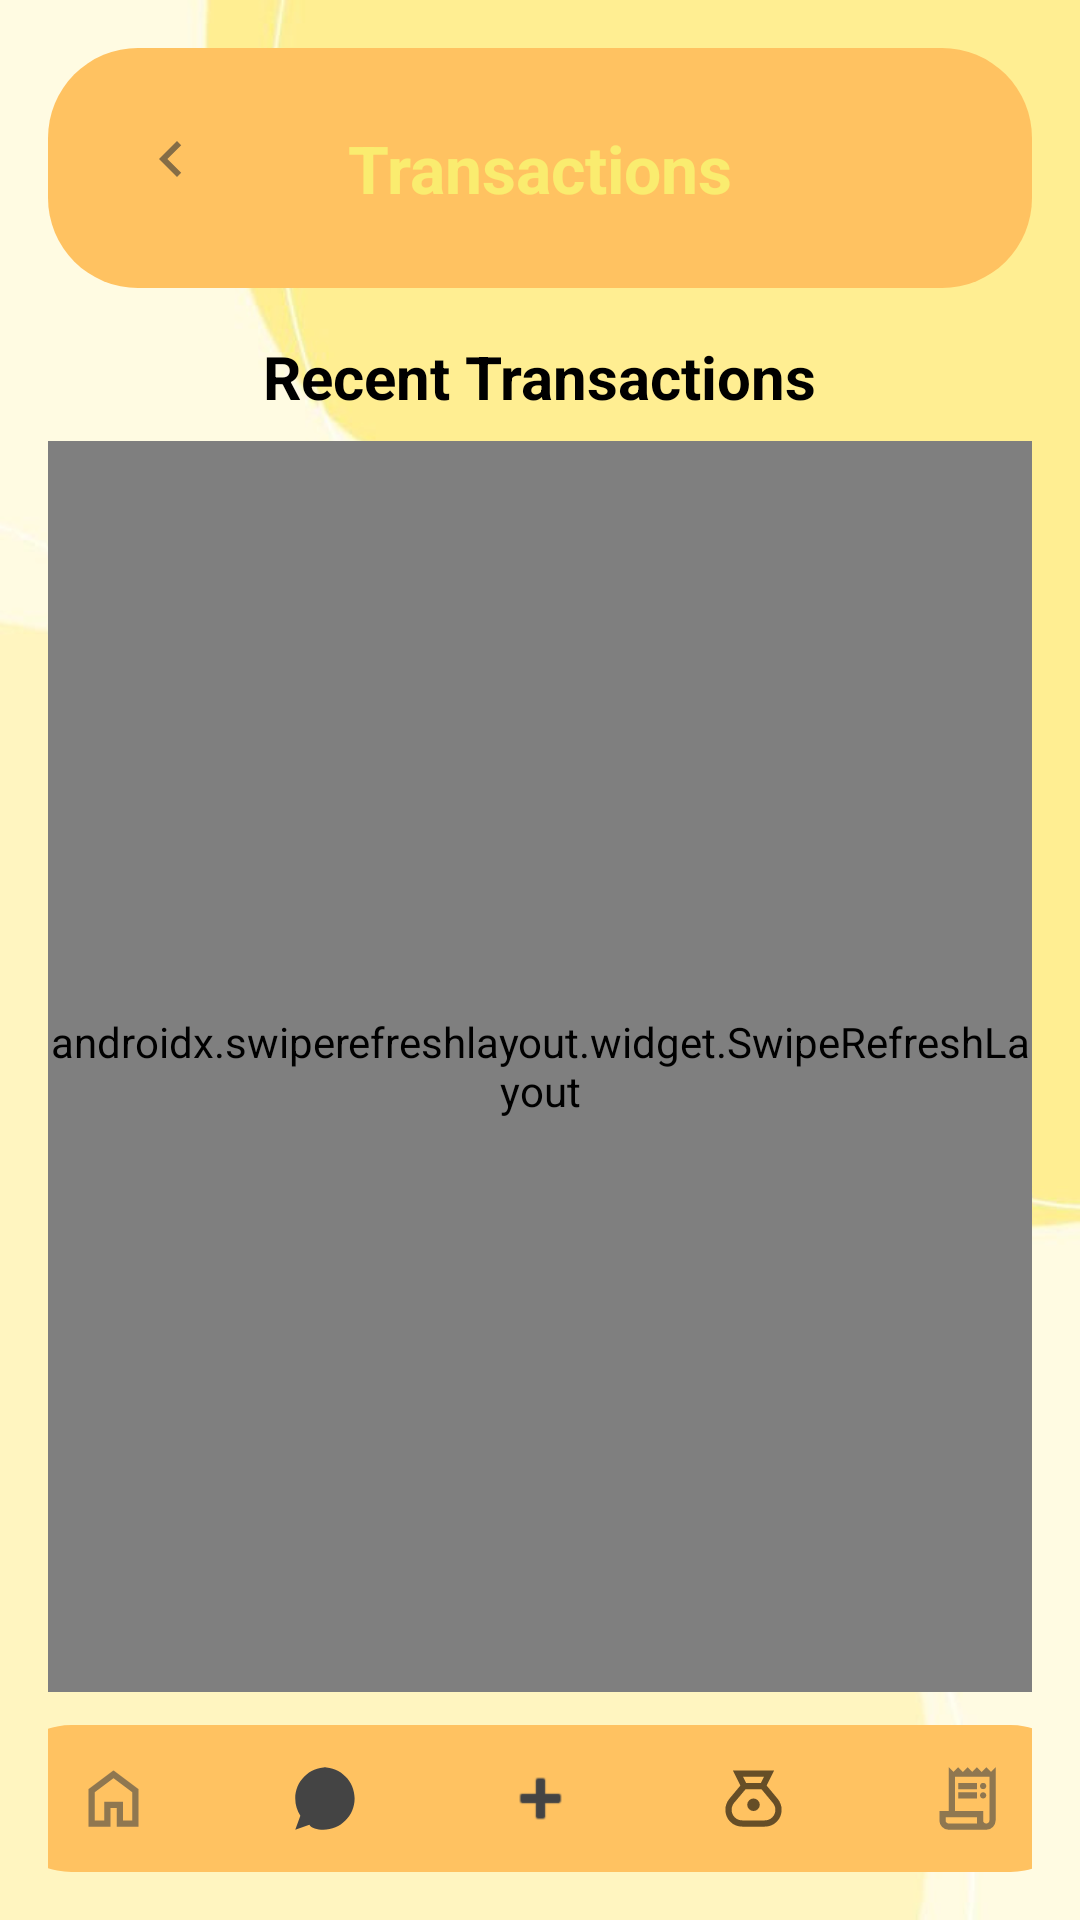

Named icons in this screenshot (1080x1920) and their centers, (x,y):
add: (540,1798)
ai chat: (325,1798)
backarrow name: (170,159)
home name: (113,1798)
money name: (753,1798)
receipt name: (967,1798)
